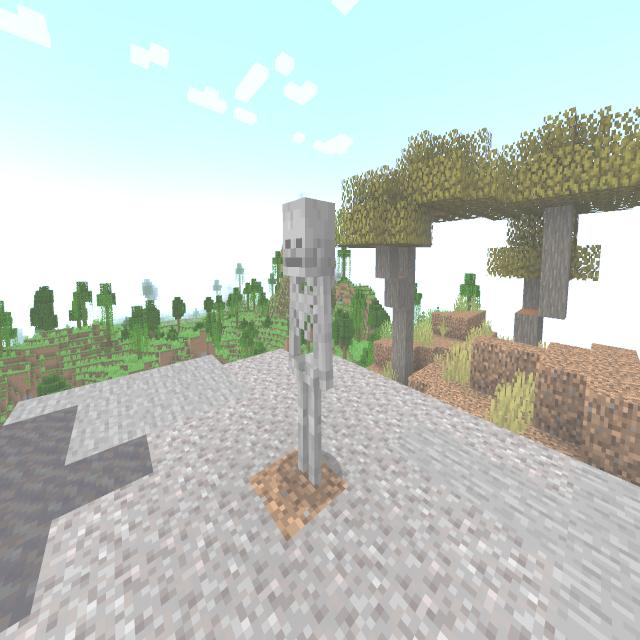Skeleton: (270, 189, 350, 511)
